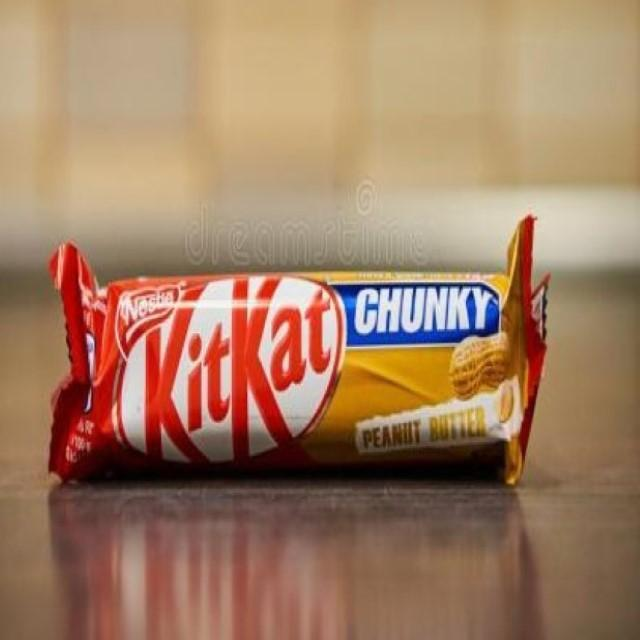kitkat_chocolate: (40, 193, 547, 540)
